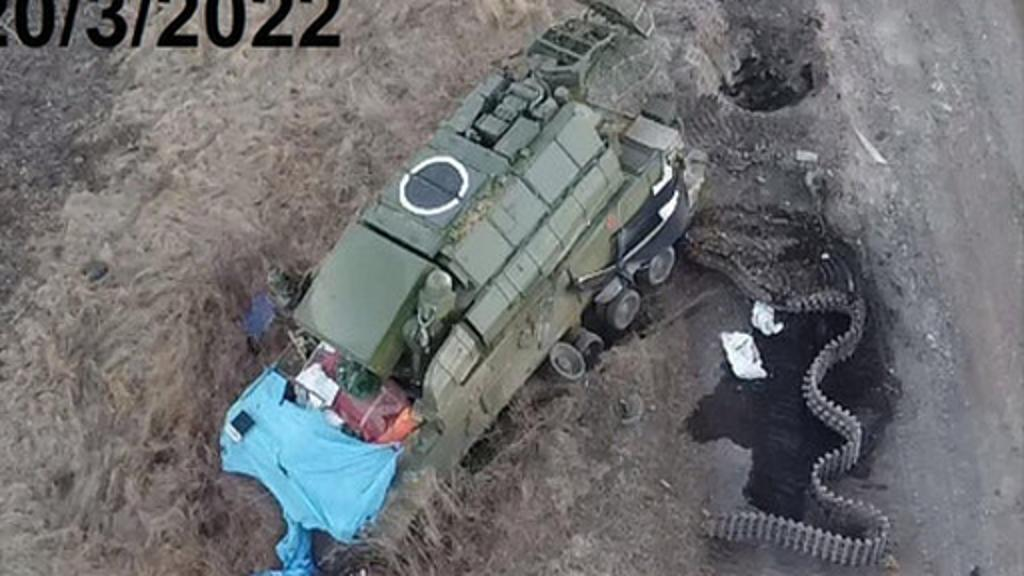MLRS: (212, 2, 712, 536)
